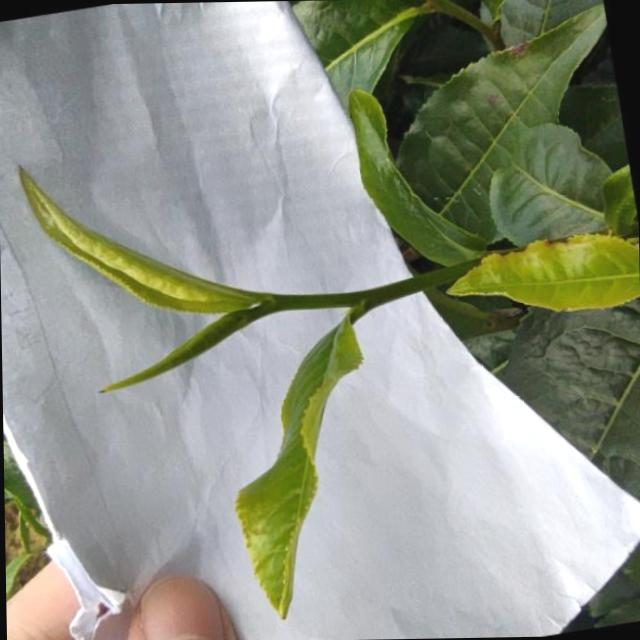Stem: (268, 294, 291, 310)
